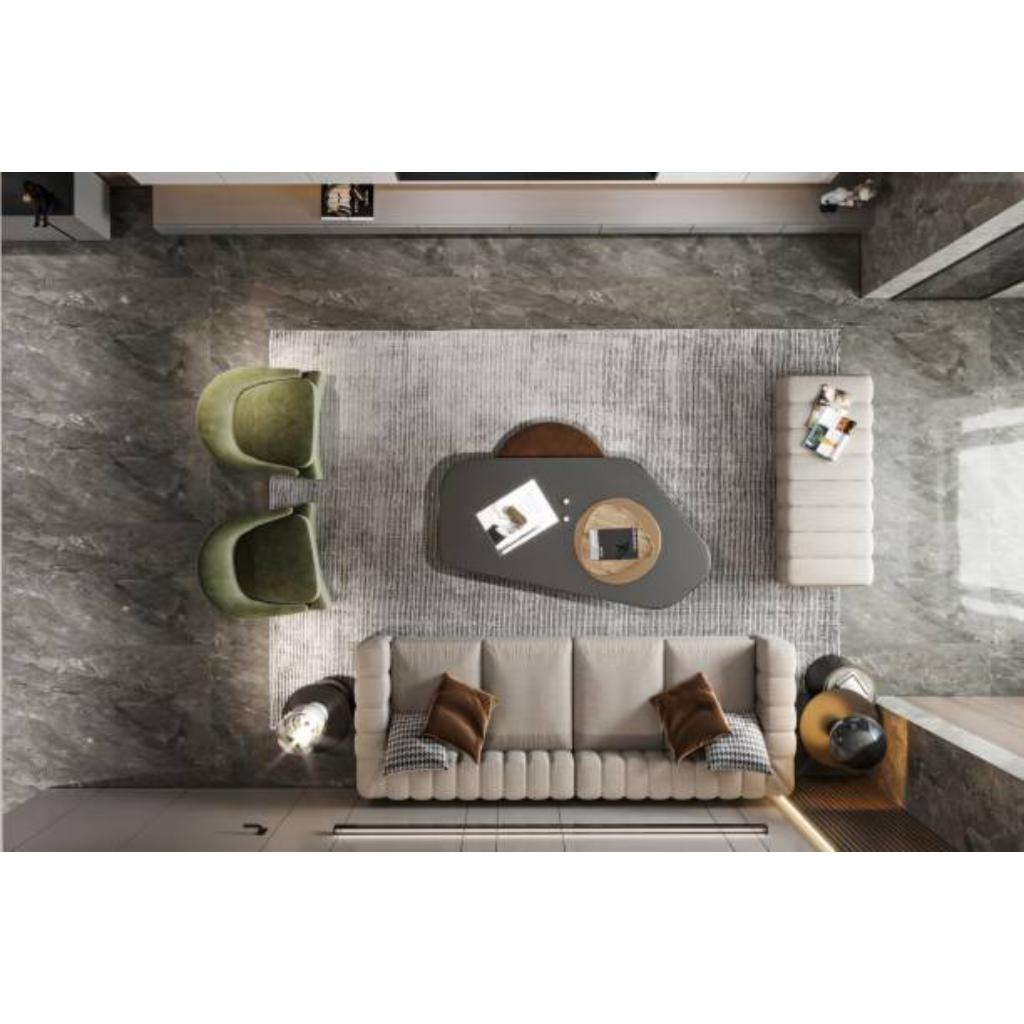TV stand: (134, 172, 874, 236)
chair: (196, 503, 336, 621), (196, 366, 326, 484)
coffee table: (439, 420, 711, 612)
floor lamp: (285, 681, 351, 749)
ottoman: (777, 374, 875, 586)
rug: (269, 330, 839, 730)
side table: (802, 690, 882, 776)
sofa: (356, 634, 796, 800)
wardrobe: (4, 800, 824, 850)
